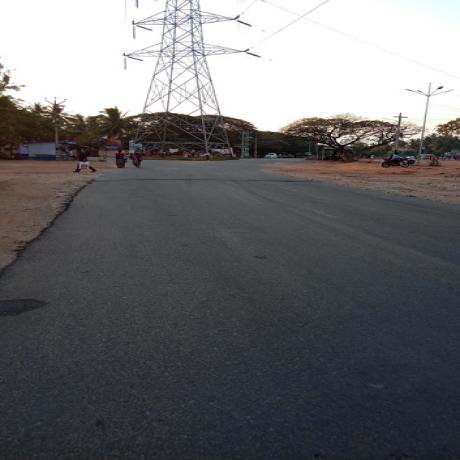Speed Bump: (95, 177, 323, 184)
